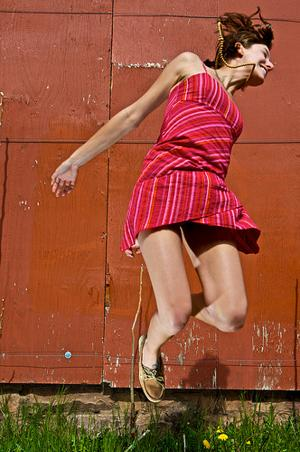person: (50, 6, 278, 403)
